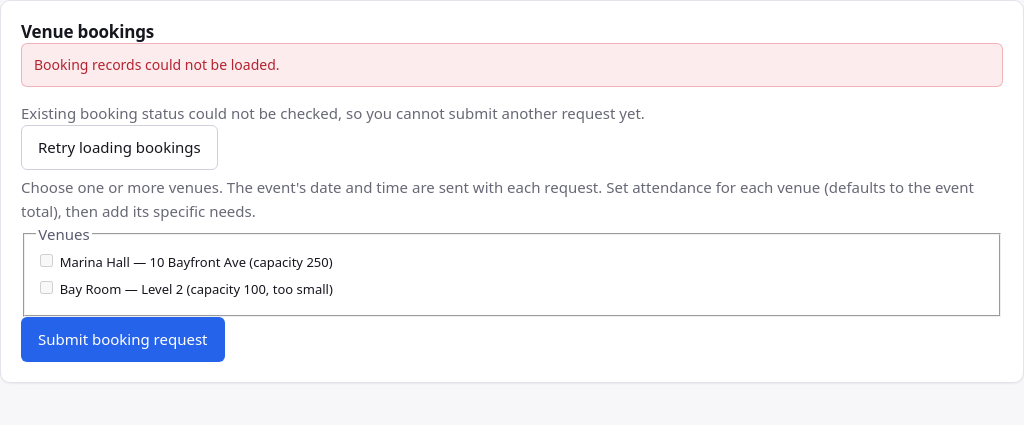
Test: SCRUM-39 AC1 - no venue selected › does not treat a failed booking lookup as an empty booking list and allows retry
The width and height of the screenshot is (1024, 425).
Expected: the message reads "Booking records could not be loaded.", [34,55,280,74]
Expected: the text "cannot submit another request yet" is shown, [21,103,645,123]
What coordinates should you click on to do the following:
click the button "Retry loading bookings"
I would click on:
 (119, 148)
Its box is [21,125,218,170].
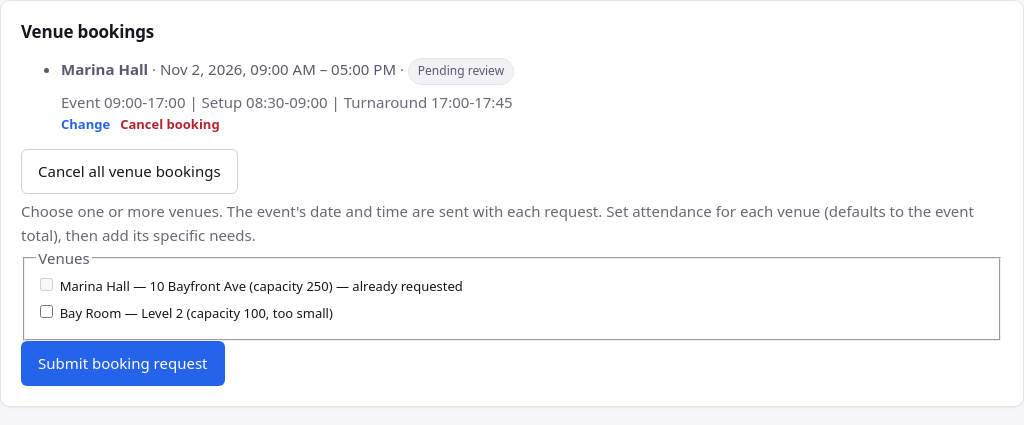
Expected: the 1st checkbox is disabled, [40,278,53,291]
